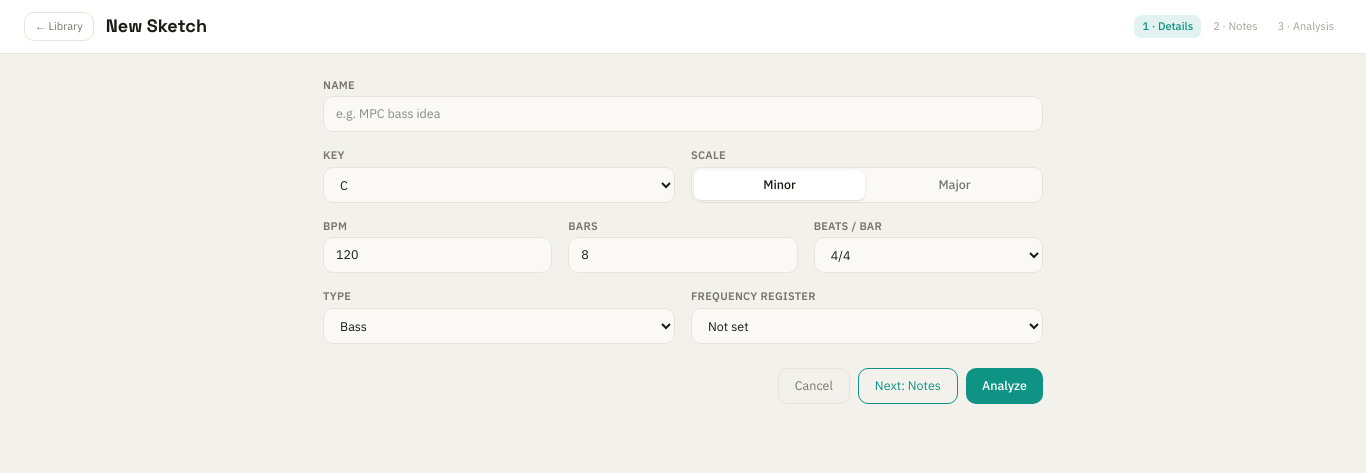
it: SketchWizard — results step › shows API errors from analyze
Click the button "Analyze" at (1004, 386), box [966,368,1043,404]
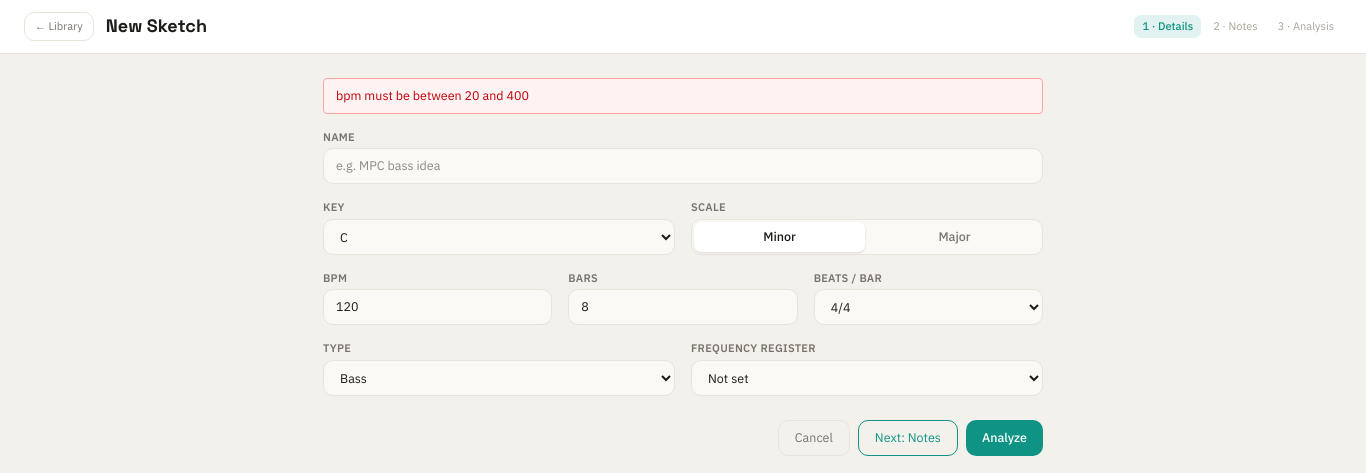
Expected: the text "bpm must be between 20 and 400" is shown, [323,78,1043,114]
